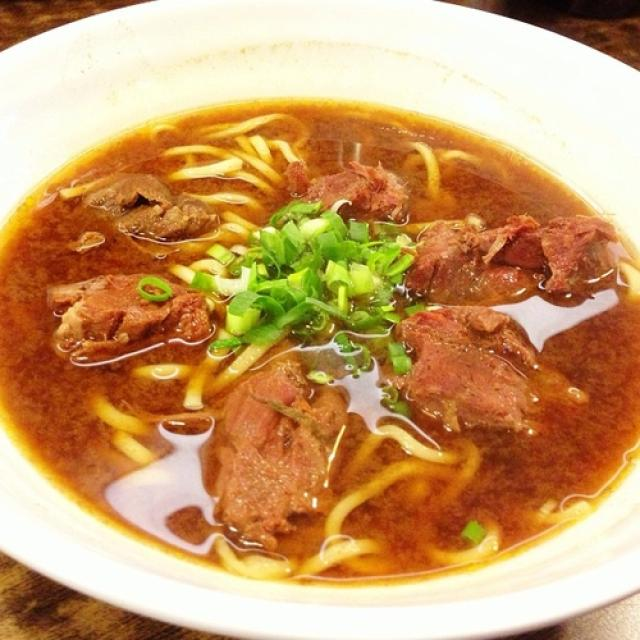面条主食: (4, 60, 634, 608)
